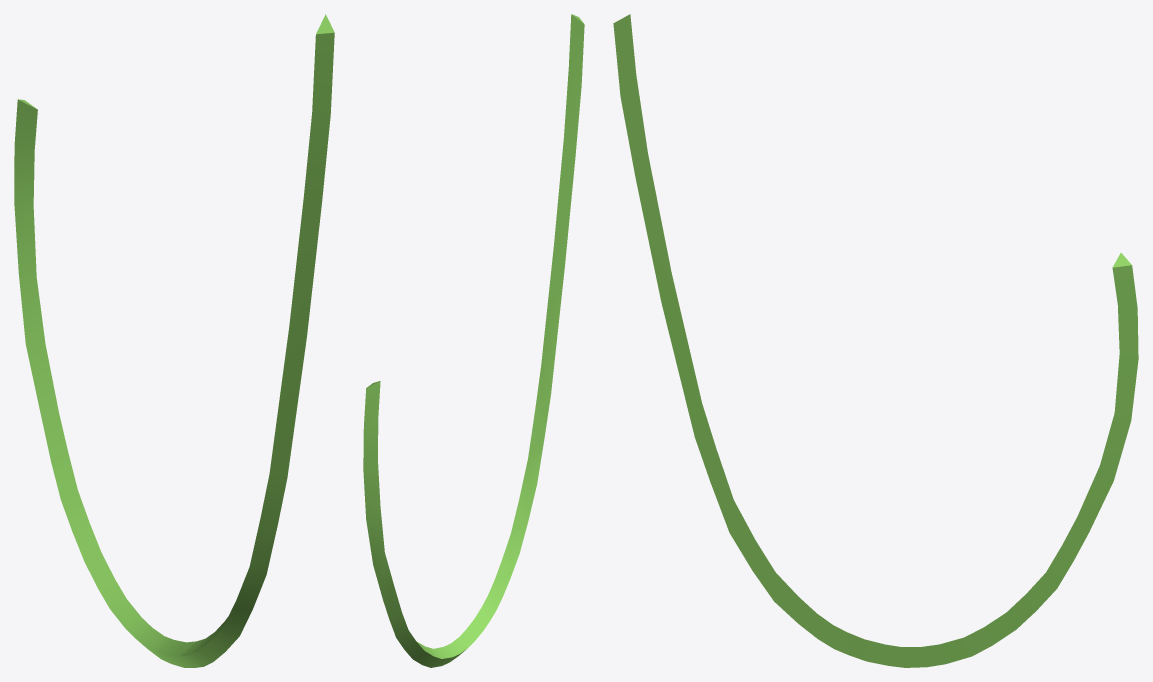
Rendered from lianas_H.fbx.
The picture shows the model from 3 angles, left to right: view 1: azimuth 30°, elevation 25°; view 2: azimuth 150°, elevation 25°; view 3: azimuth 270°, elevation 25°; orthographic projection. The views are drawn at different scales.
Parts seen in each view (by area): view 1: liana_H_thick; view 2: liana_H_thick; view 3: liana_H, liana_H_thick.
Boxes of the visible parts, <box> form: liana_H_thick: <box>14,14,334,667</box>; liana_H_thick: <box>363,14,584,667</box>; liana_H: <box>613,14,1136,667</box>; liana_H_thick: <box>661,253,1138,665</box>.
Size of the model in its own units: 4.86 by 149 by 108.
